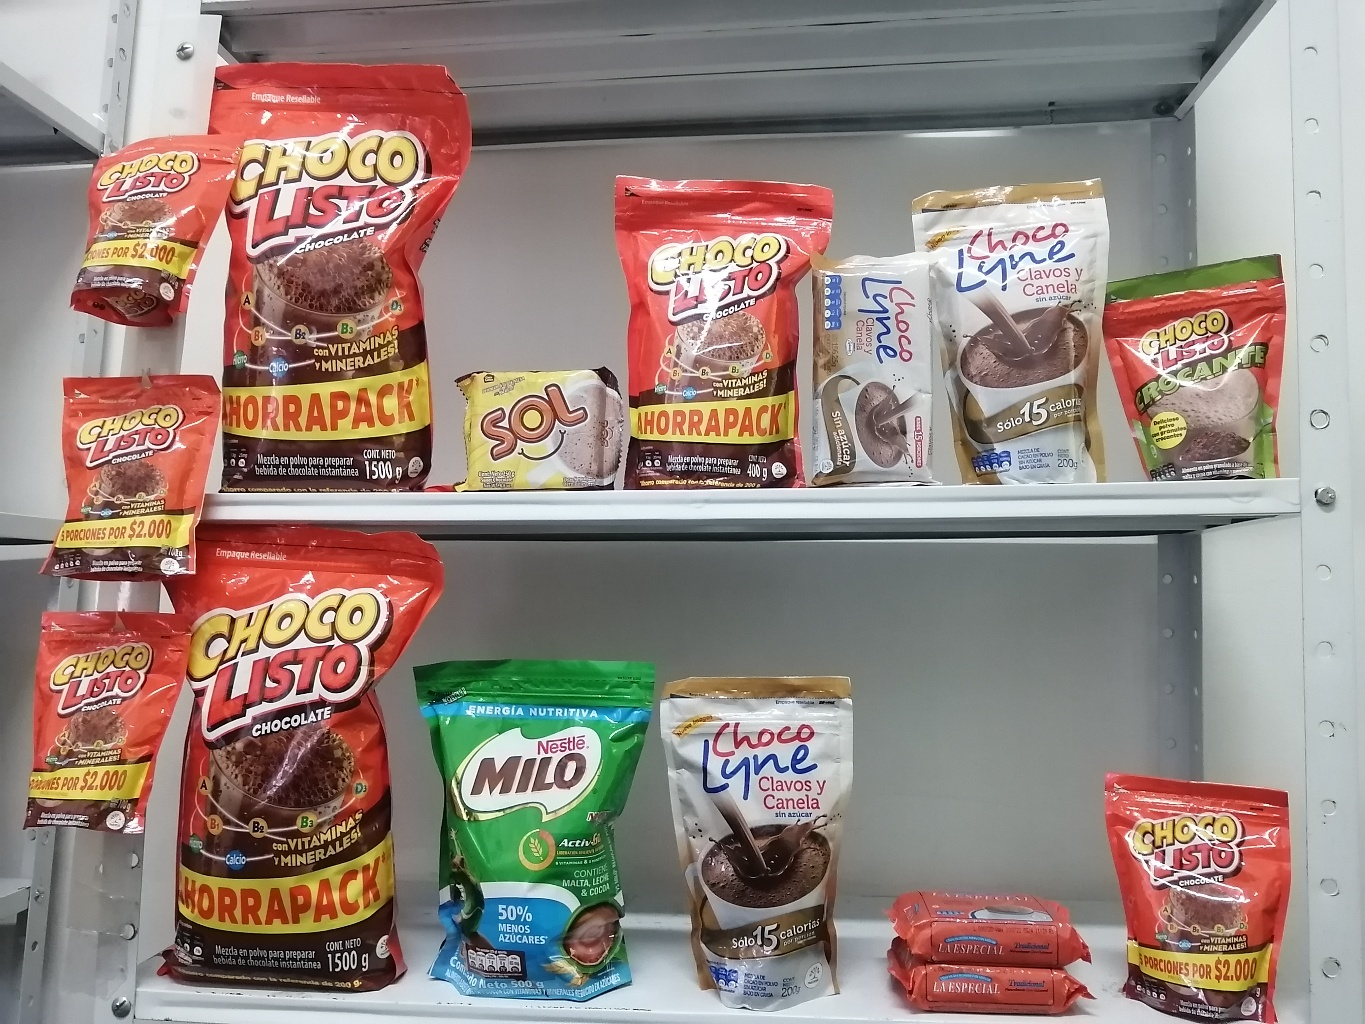COL0170102DYP10000: (1109, 250, 1289, 481)
COL0170103DYP1,500: (217, 54, 471, 487)
COL0170103DYP10000: (68, 128, 225, 323)
COL0170103DYP40000: (613, 155, 828, 489)
COL0170205DYP20000: (415, 639, 669, 1009)
